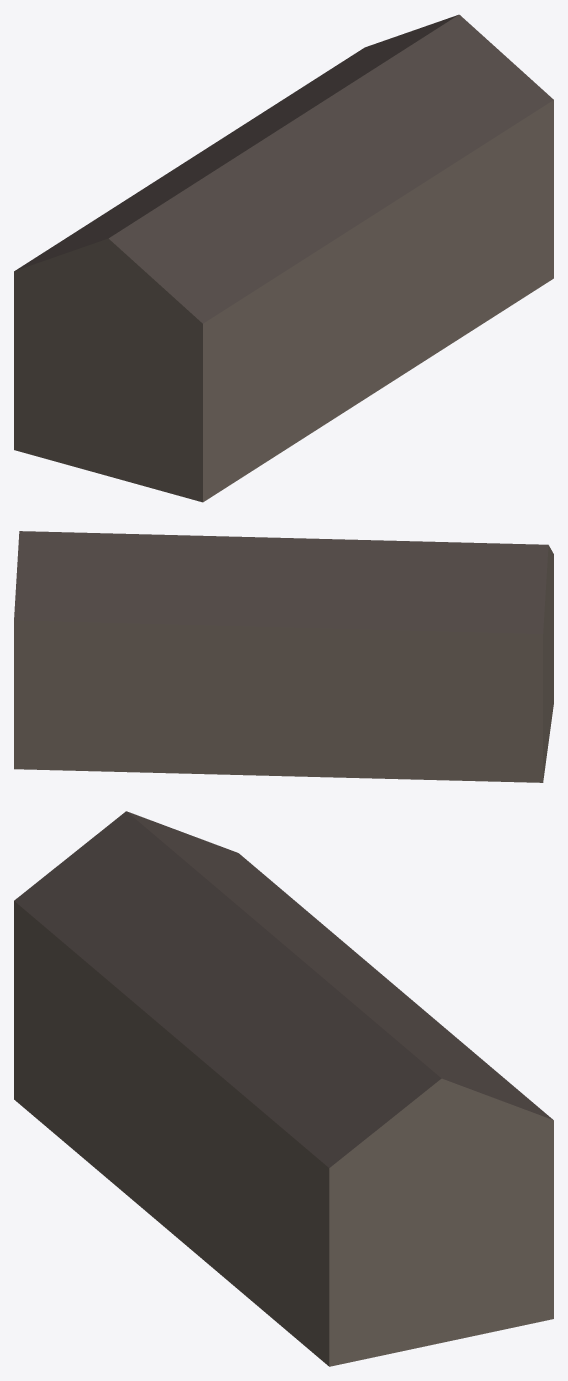
The picture shows the model from 3 angles, top to bottom: view 1: azimuth 30°, elevation 25°; view 2: azimuth 150°, elevation 25°; view 3: azimuth 270°, elevation 25°; orthographic projection. The views are drawn at different scales.
Parts seen in each view (by area): view 1: HP-w734452856; view 2: HP-w734452856; view 3: HP-w734452856.
Boxes of the visible parts, left/top/right/bottom form: HP-w734452856: left=14, top=14, right=553, bottom=502; HP-w734452856: left=14, top=531, right=553, bottom=782; HP-w734452856: left=14, top=811, right=553, bottom=1366.
Bounding box in the file's own units: 30.62 × 11.98 × 22.17.
